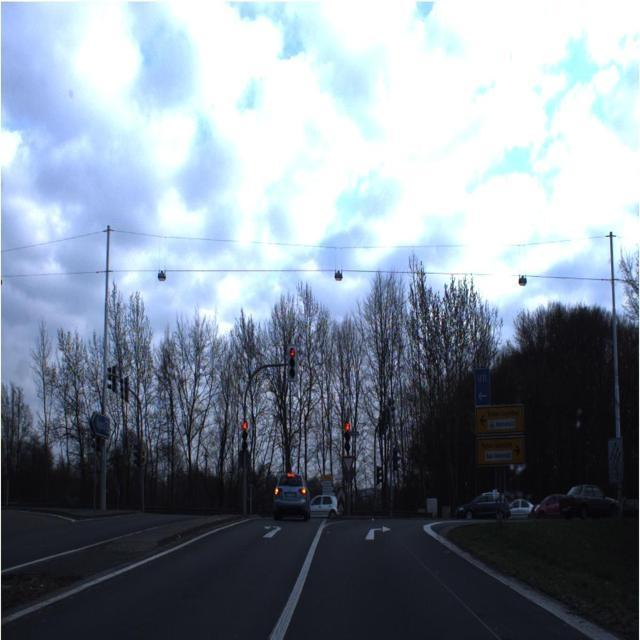prio_give_way: (341, 455, 355, 477)
